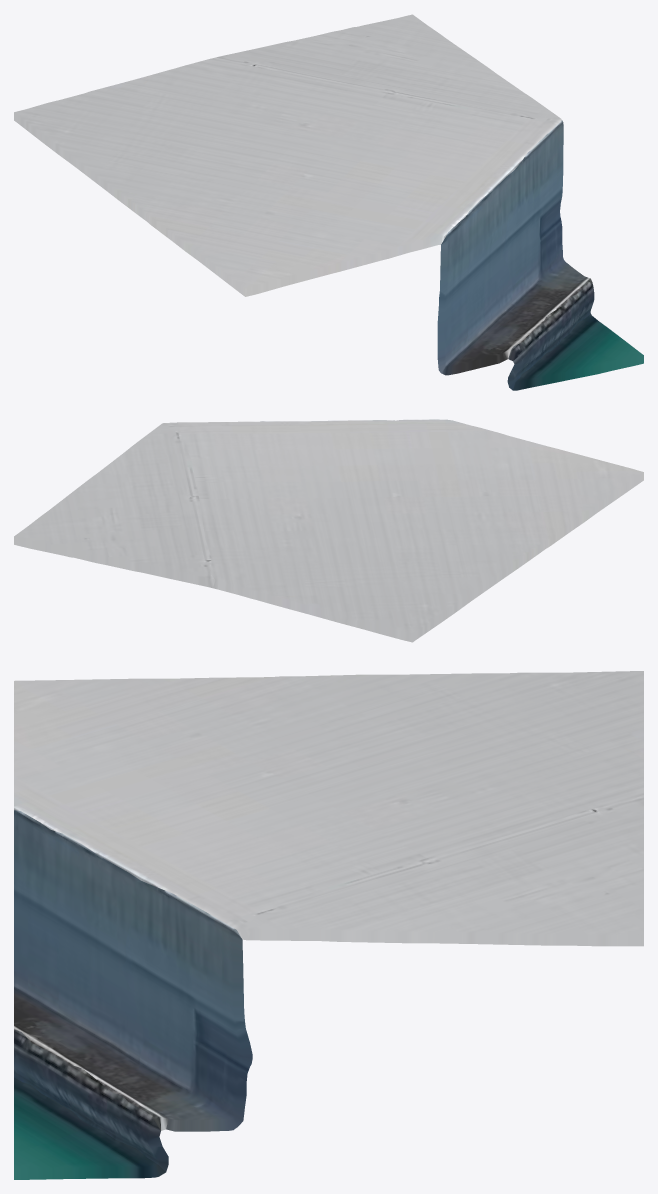
Rendered from z20-167772-405193-h0-yup-uvflip-v3-world.glb.
The picture shows the model from 3 angles, top to bottom: view 1: azimuth 30°, elevation 25°; view 2: azimuth 150°, elevation 25°; view 3: azimuth 270°, elevation 25°; orthographic projection. The views are drawn at different scales.
Size of the model in its own units: 30.16 by 13.4 by 30.32.
1 material, 1 textured.
